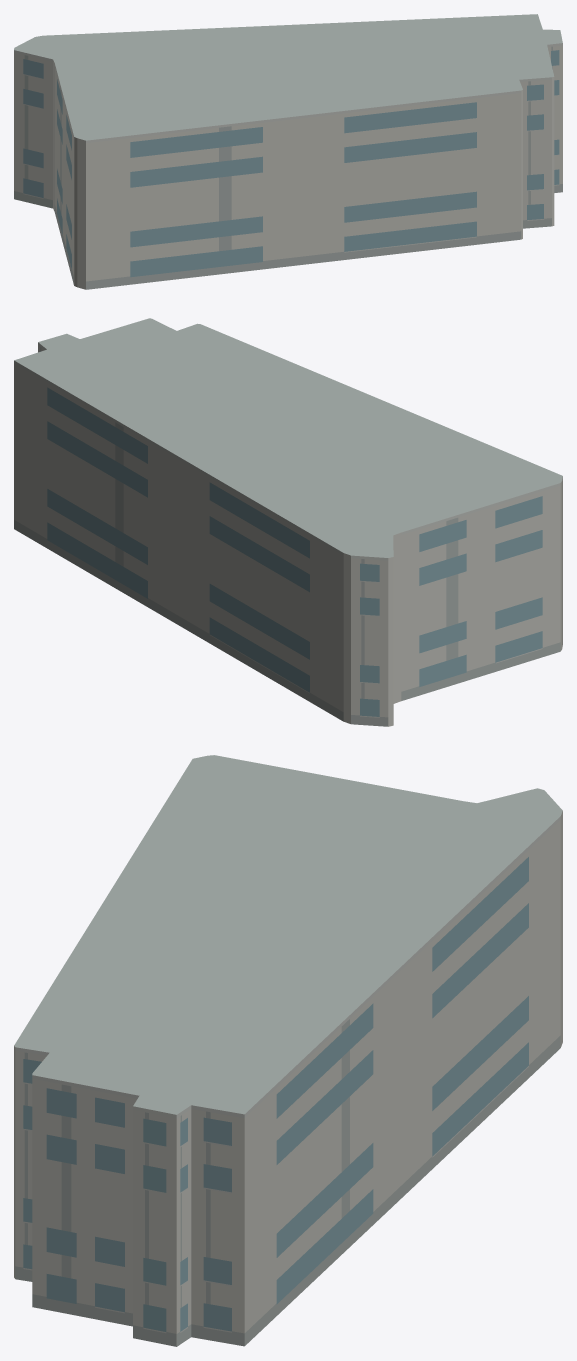
The model's file is survey-upis-32775266.glb.
3 renders of one model, top to bottom at view 1: azimuth 30°, elevation 25°; view 2: azimuth 150°, elevation 25°; view 3: azimuth 270°, elevation 25°, orthographic. The views are drawn at different scales.
Visible parts, largest first — view 1: survey-upis-32775266.tmp; view 2: survey-upis-32775266.tmp; view 3: survey-upis-32775266.tmp.
Boxes of the visible parts, x1,y1,x2,y2 form: survey-upis-32775266.tmp: (14, 14, 562, 289); survey-upis-32775266.tmp: (14, 318, 562, 726); survey-upis-32775266.tmp: (14, 755, 562, 1346).
Bounding box in the file's own units: 50.74 × 15.25 × 32.71.
